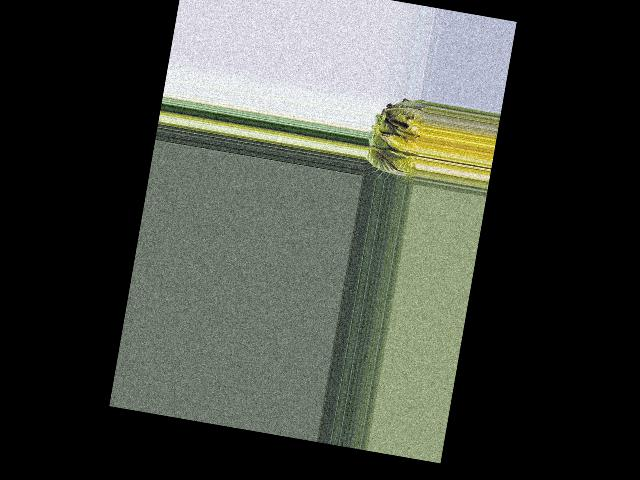lettuce: (364, 95, 428, 184)
